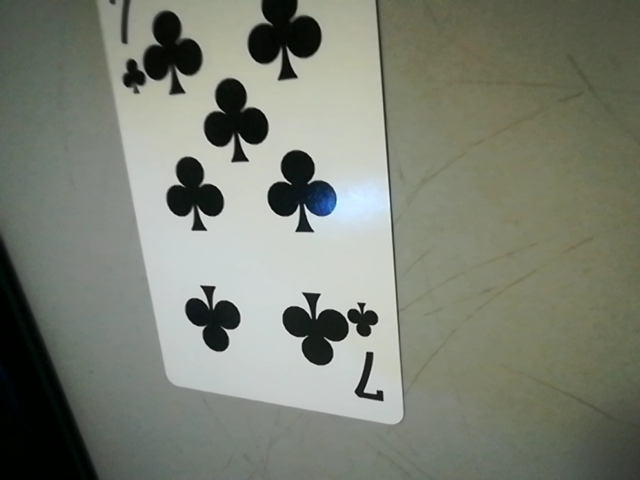mh 7: (344, 297, 392, 416)
